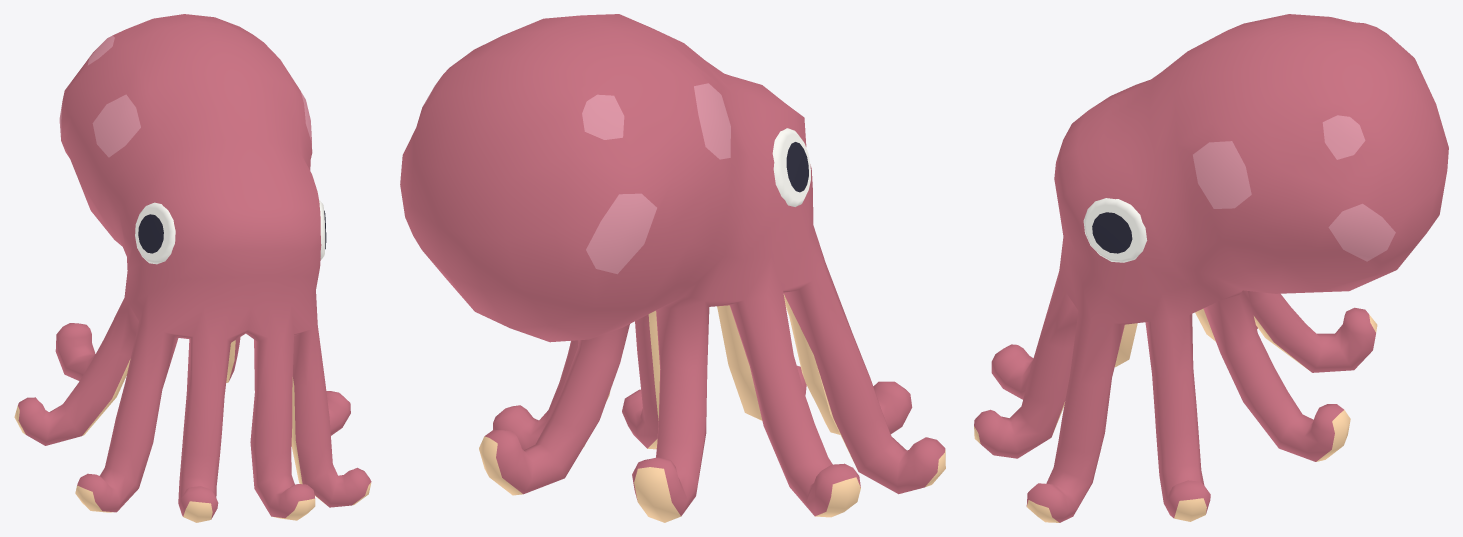
File: octopus.gltf
The picture shows the model from 3 angles, left to right: view 1: azimuth 30°, elevation 25°; view 2: azimuth 150°, elevation 25°; view 3: azimuth 270°, elevation 25°; orthographic projection. The views are drawn at different scales.
Visible parts, largest first — view 1: 1; view 2: 1; view 3: 1.
Boxes of the visible parts, x1,y1,x2,y2 form: 1: (14,14,371,522); 1: (400,14,945,522); 1: (974,14,1448,522).
Bounding box in the file's own units: 186 × 237 × 219.
1 material, 1 textured.
